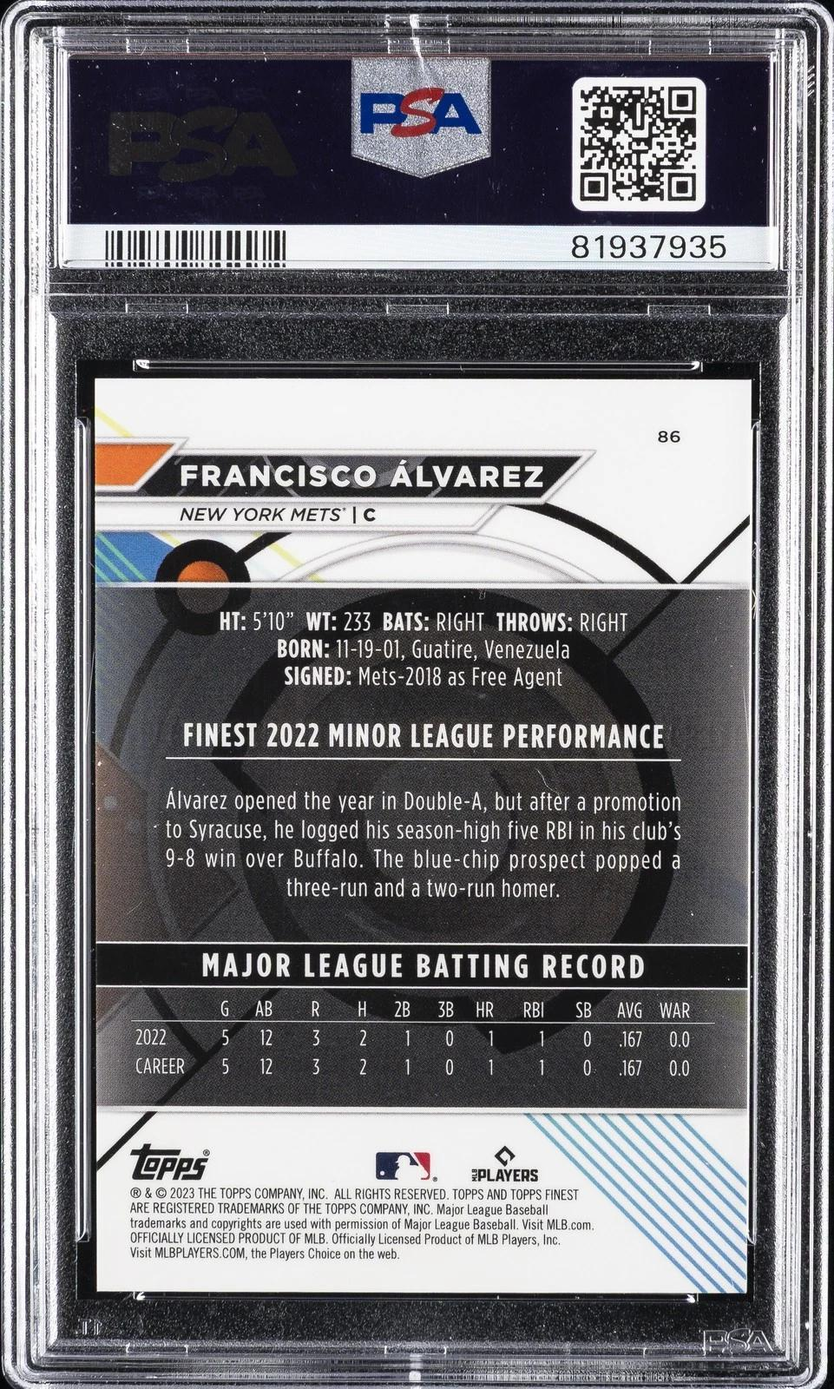card-2UtV: (94, 377, 753, 1294)
